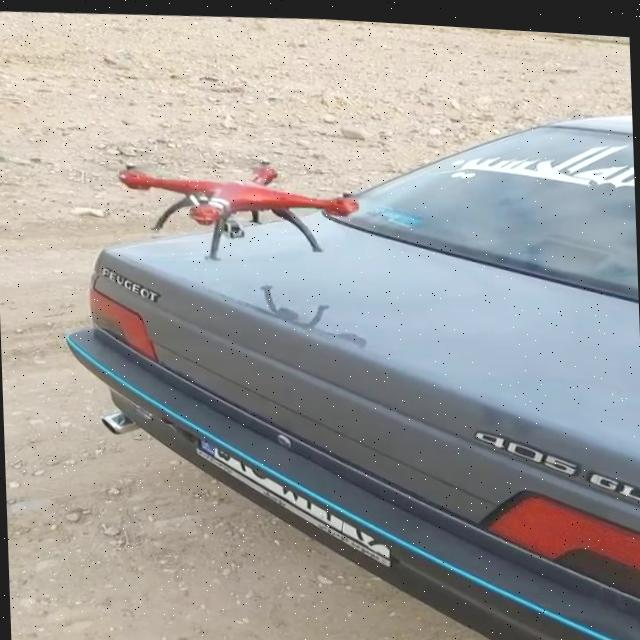drone: (92, 138, 382, 268)
